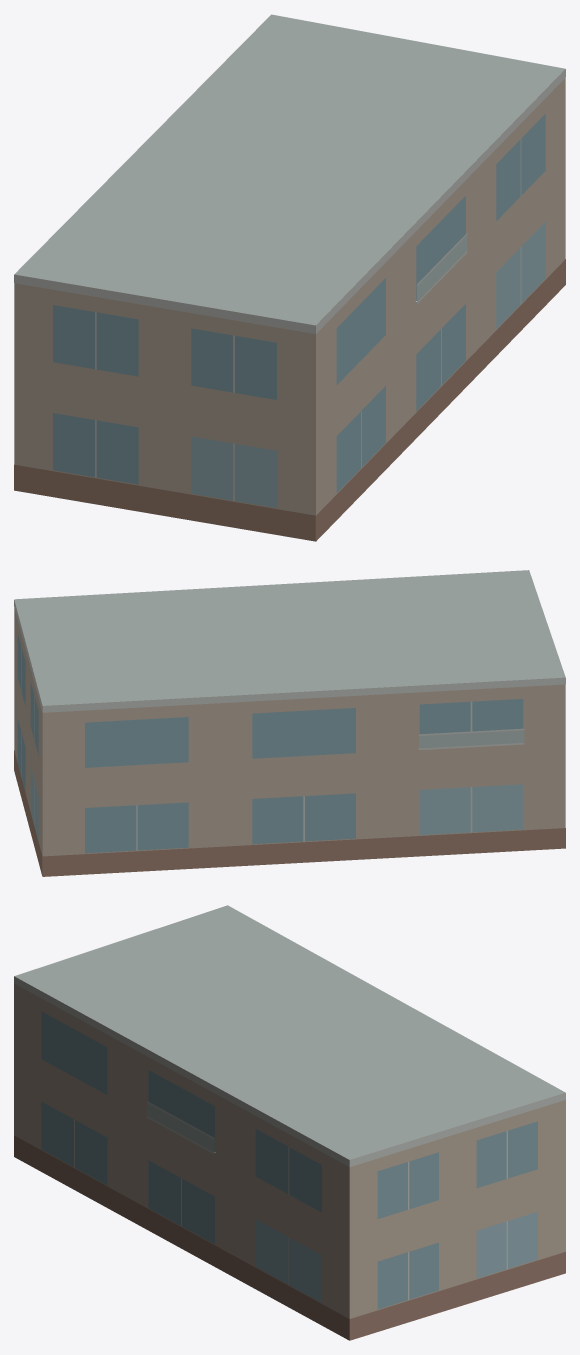
File: survey-upis-32850629.glb
3 renders of one model, top to bottom at view 1: azimuth 30°, elevation 25°; view 2: azimuth 150°, elevation 25°; view 3: azimuth 270°, elevation 25°, orthographic. The views are drawn at different scales.
Visible parts, largest first — view 1: survey-upis-32850629.tmp; view 2: survey-upis-32850629.tmp; view 3: survey-upis-32850629.tmp.
Boxes of the visible parts, x1,y1,x2,y2 form: survey-upis-32850629.tmp: [14, 14, 565, 541]; survey-upis-32850629.tmp: [14, 570, 565, 876]; survey-upis-32850629.tmp: [14, 905, 565, 1340].
Size of the model in its own units: 18.46 by 6.1 by 16.89.
